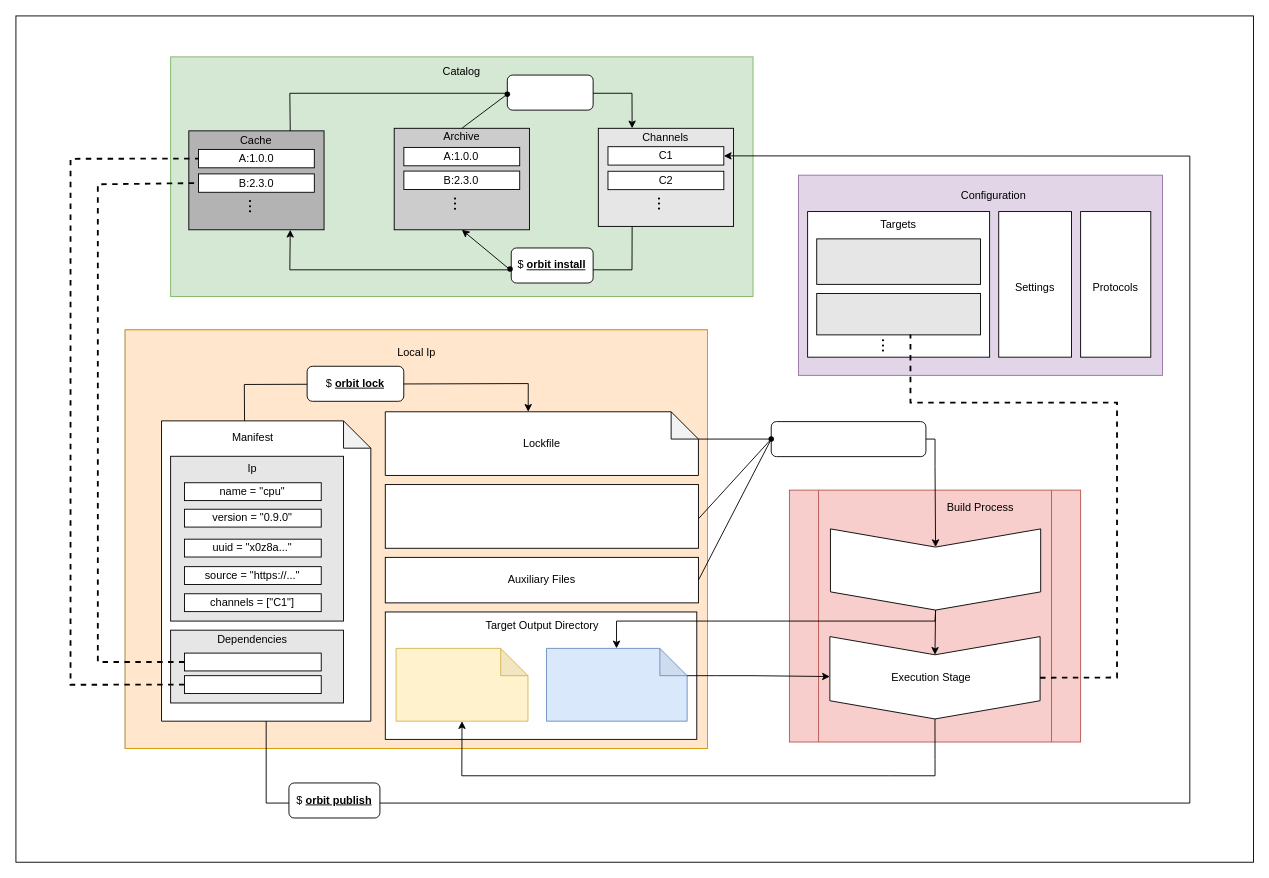
The diagram is 1269 pixels wide and 878 high, and some of its shapes have lost their labels. The box of each missing label's shape, as (x1, y1, x2, y2) in pixels:
$ orbit build --target "T2": (770, 421, 926, 457)
$ orbit remove: (506, 74, 593, 110)
A = "1.0.0": (184, 675, 321, 694)
Artifacts: (395, 647, 528, 721)
B = "2.3": (184, 652, 321, 671)
Blueprint: (546, 647, 687, 721)
name = "T1" command = "python sim.py" test = true: (816, 238, 981, 284)
name = "T2" command = "make synth" build = true: (816, 293, 981, 335)
Planning Stage: (830, 528, 1041, 610)
Source Files: (384, 484, 698, 548)
